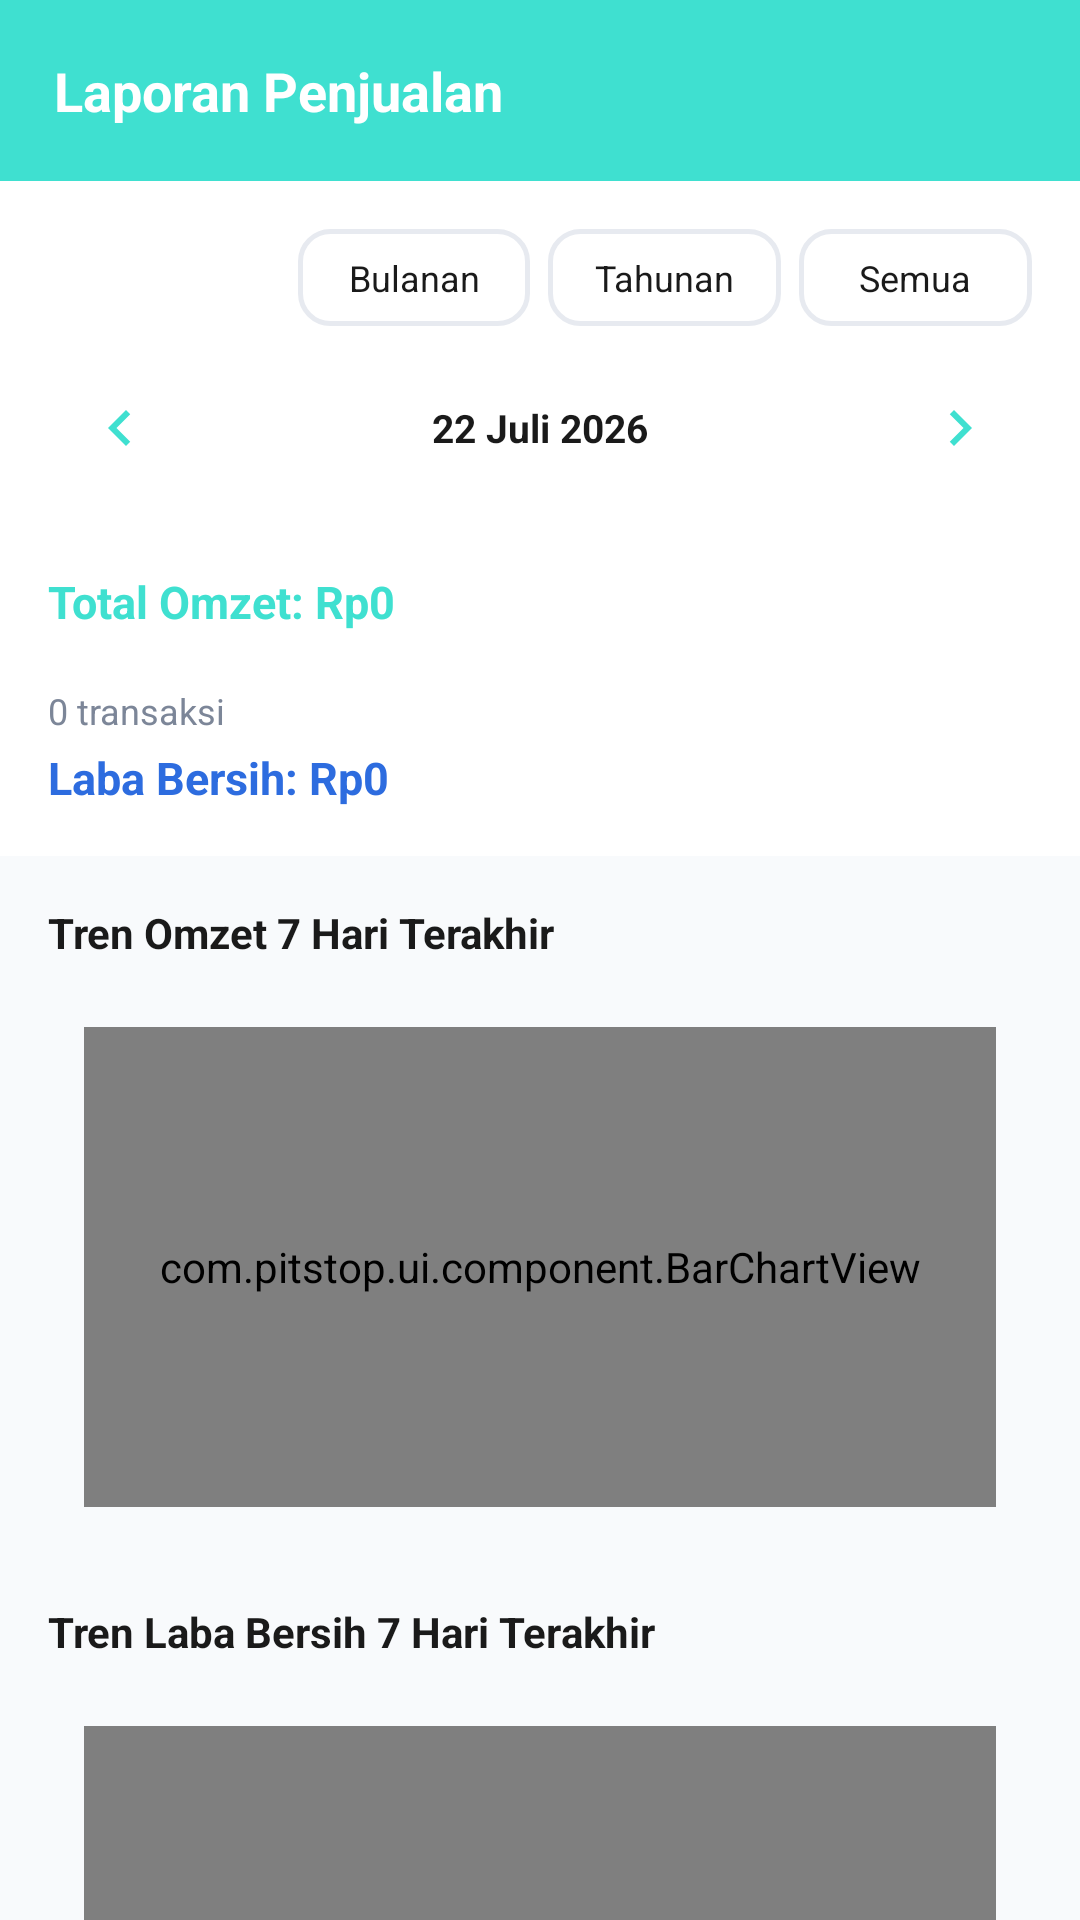

Screen size 1080w x 1920h. Icon name, then its center in pixels as [x,y]:
sebelum: [119,428]
sesudah: [961,428]
